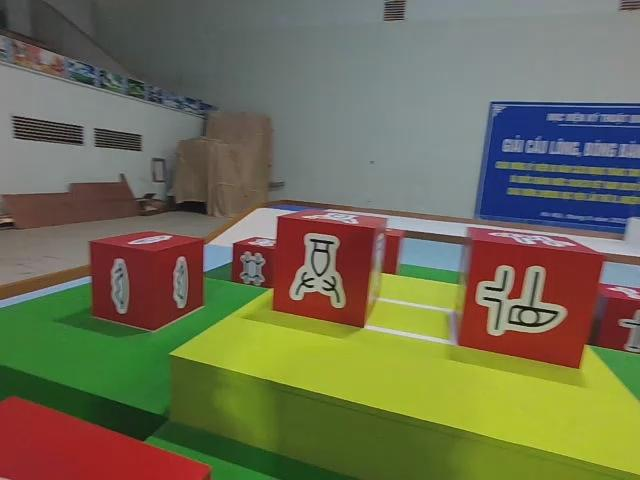R2 Real: (457, 225, 606, 371), (273, 213, 389, 335), (87, 229, 203, 329), (594, 283, 640, 355), (231, 237, 277, 291)
